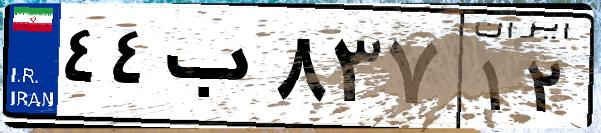1: (475, 38, 525, 113)
2: (525, 38, 570, 115)
3: (330, 28, 385, 110)
4: (57, 26, 110, 100), (110, 28, 158, 98)
7: (385, 28, 445, 110)
8: (270, 28, 330, 110)
ب: (158, 20, 270, 120)
